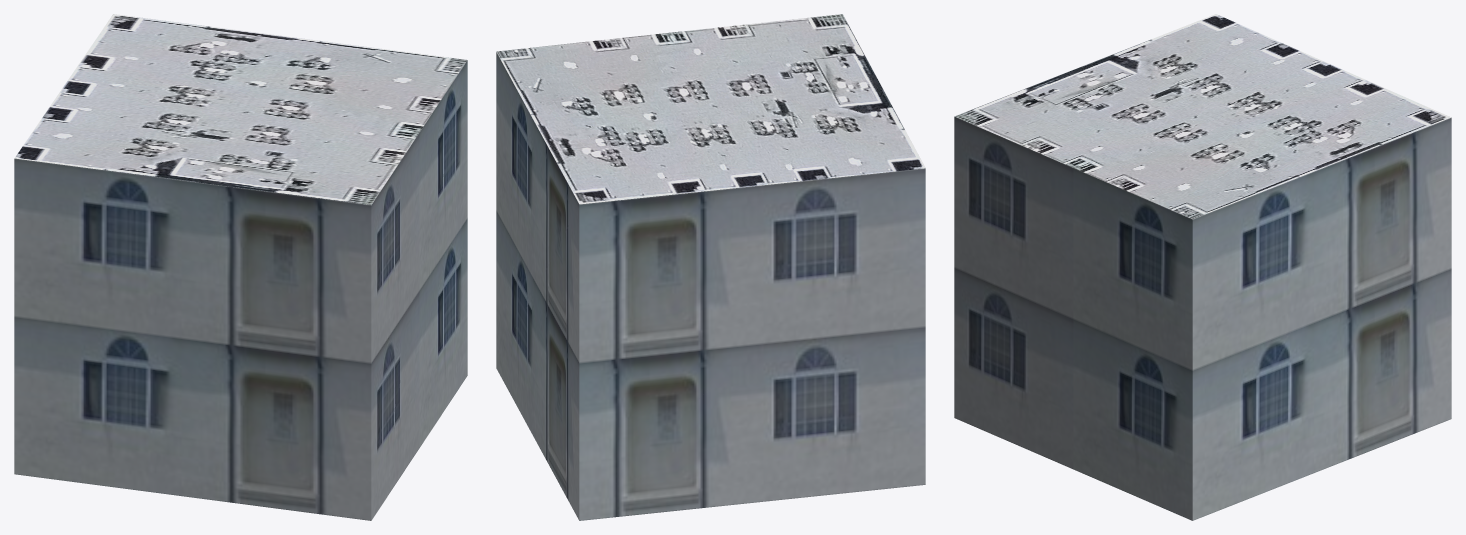
The model's file is ResTex__1569.fbx.
3 renders of one model, left to right at view 1: azimuth 30°, elevation 25°; view 2: azimuth 150°, elevation 25°; view 3: azimuth 270°, elevation 25°, orthographic. The views are drawn at different scales.
Parts seen in each view (by area): view 1: CityEngineMaterial_17_m, CityEngineMaterial_4_m; view 2: CityEngineMaterial_17_m, CityEngineMaterial_4_m; view 3: CityEngineMaterial_17_m, CityEngineMaterial_4_m.
Part boxes in pixels (<box>): CityEngineMaterial_17_m: <box>14,60,467,520</box>; CityEngineMaterial_4_m: <box>14,14,467,204</box>; CityEngineMaterial_17_m: <box>496,52,925,520</box>; CityEngineMaterial_4_m: <box>496,14,925,204</box>; CityEngineMaterial_17_m: <box>954,116,1451,520</box>; CityEngineMaterial_4_m: <box>954,14,1451,219</box>.
Bounding box in the file's own units: 8.77 × 6 × 8.97.
2 materials, 2 textured.
